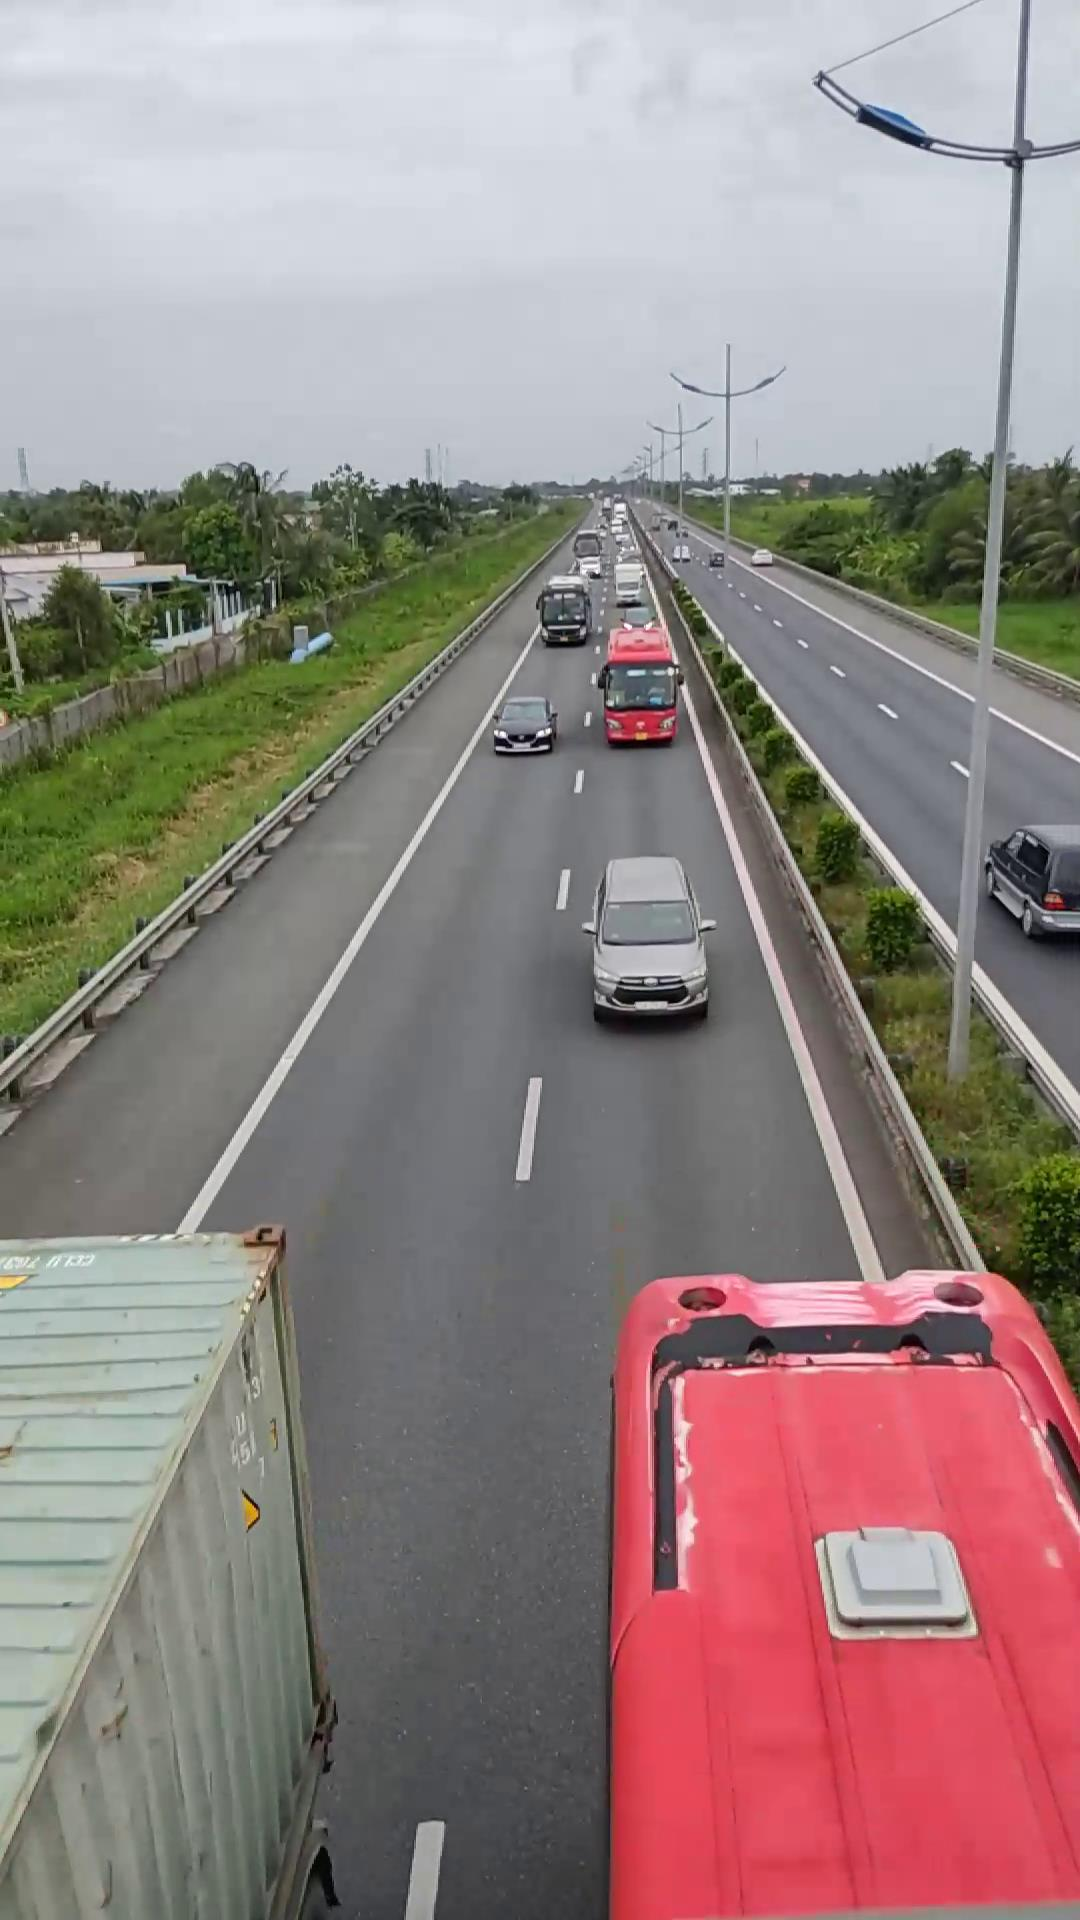bus: (603, 1261, 1065, 1919)
car: (584, 855, 713, 1023), (491, 694, 558, 753)
container: (0, 1229, 345, 1917)
